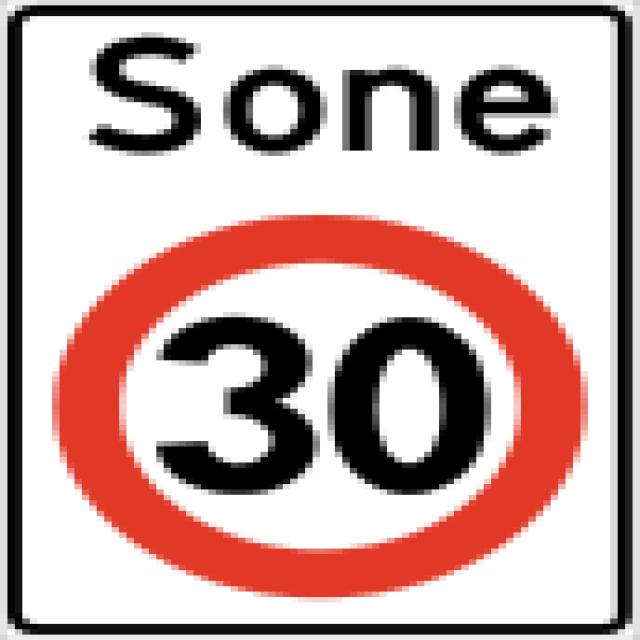Speed Limit -30-: (140, 310, 505, 499)
